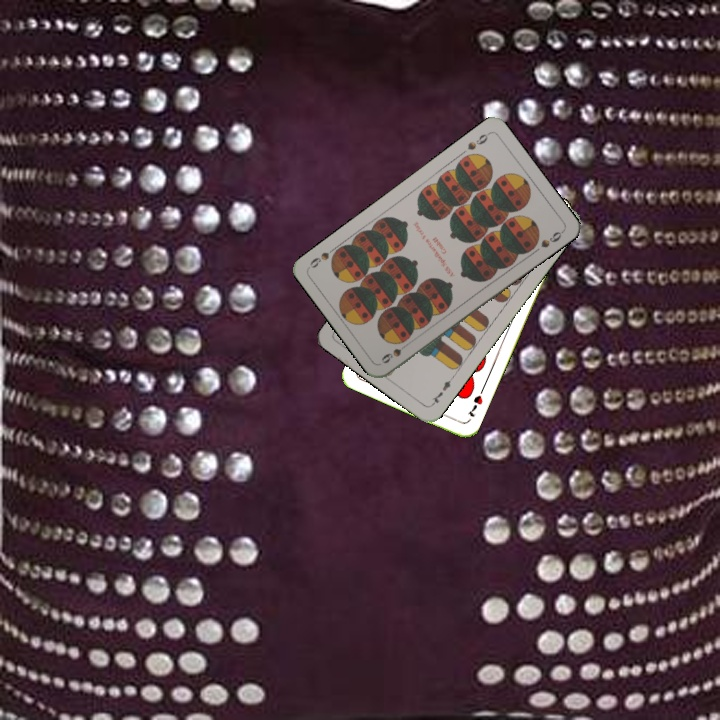E7: (427, 373, 456, 408)
H7: (464, 391, 485, 419)
S9: (377, 337, 413, 366), (463, 128, 492, 153)
